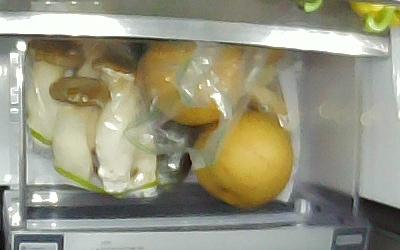pear: (191, 108, 293, 208)
pear_vinyl: (142, 40, 243, 126)
